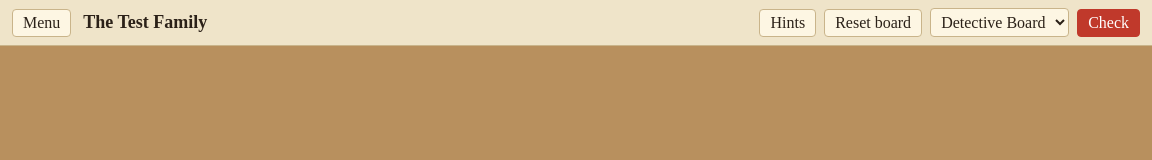
Test: StatusBar › check shows a neutral message with no numbers when incomplete
The image size is (1152, 160).
Click the button "Check": (1109, 22) [1077,8,1140,36]
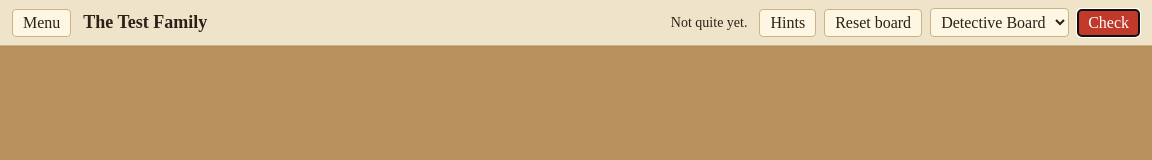
Expected: the text "Not quite yet." is shown, [671,14,748,30]
